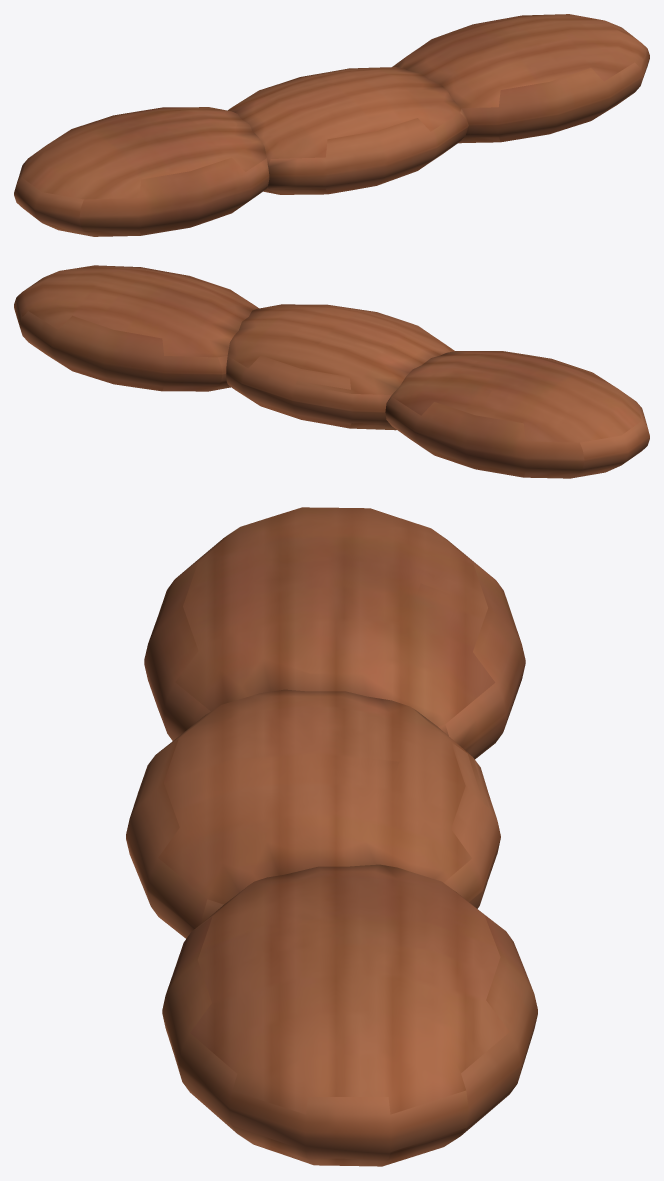
File: p_bread.glb
3 renders of one model, top to bottom at view 1: azimuth 30°, elevation 25°; view 2: azimuth 150°, elevation 25°; view 3: azimuth 270°, elevation 25°, orthographic. The views are drawn at different scales.
Visible parts, largest first — view 1: bread; view 2: bread; view 3: bread.
Boxes of the visible parts, x1=… form: bread: x1=14, y1=14, x2=649, y2=236; bread: x1=14, y1=265, x2=649, y2=478; bread: x1=126, y1=507, x2=537, y2=1166.
Bounding box in the file's own units: 0.7505 × 0.1028 × 0.2189.
1 material, 1 textured.
